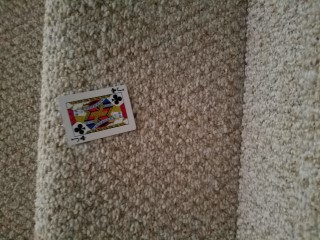JackOfClubs: (57, 85, 137, 146)
